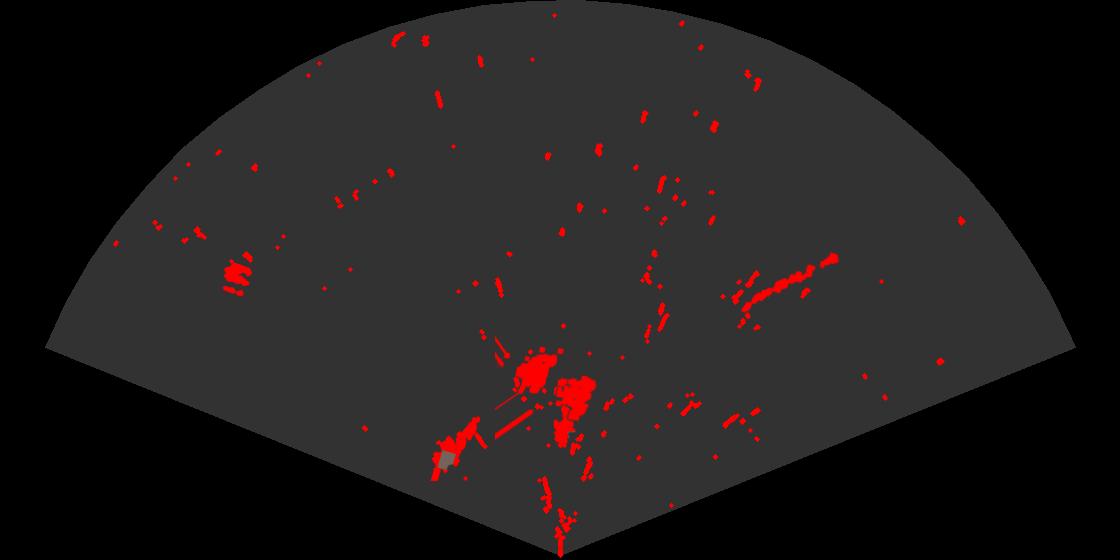AUV: (552, 400, 577, 450)
ball: (221, 261, 254, 298)
cage: (495, 334, 598, 442)
chain: (739, 250, 841, 315)
frogman: (429, 414, 482, 481)
